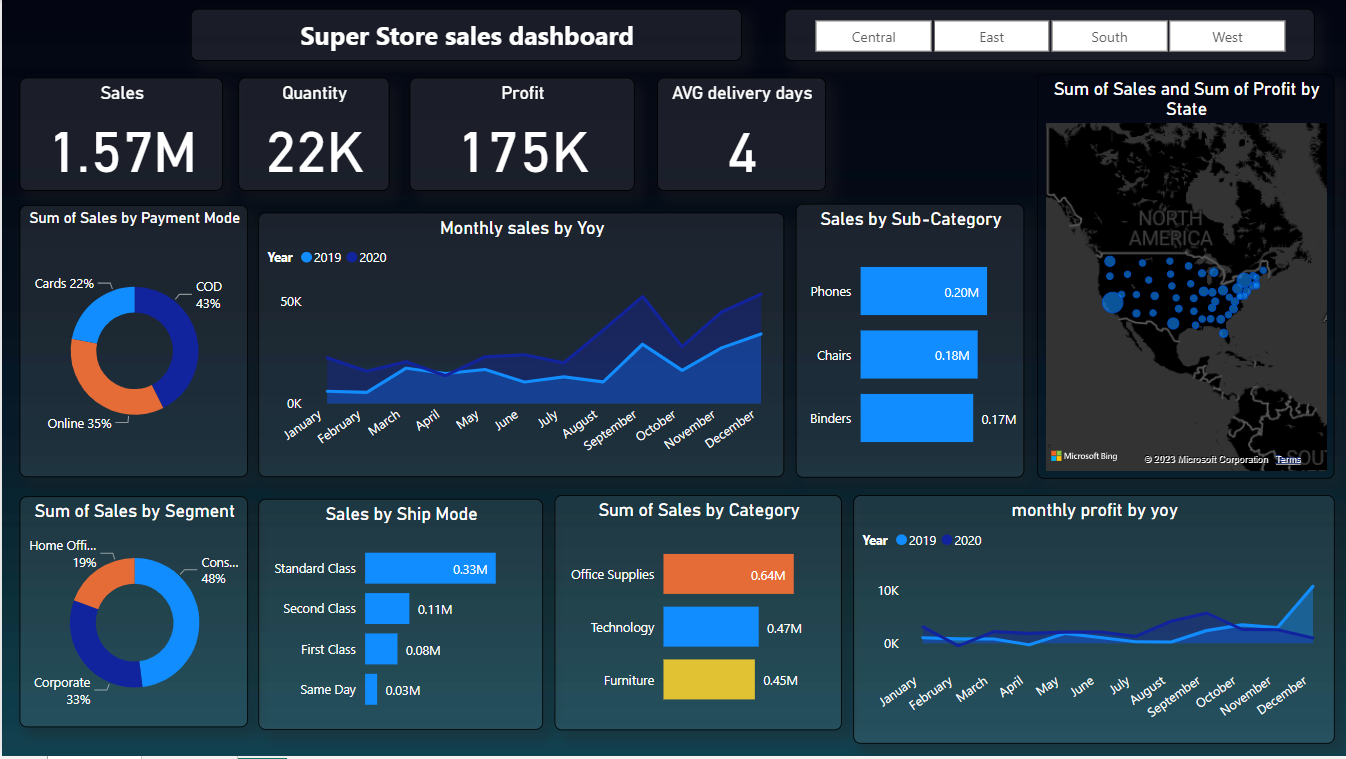

The dashboard page shown, as its layout file describes it:
{"tool":"powerbi","page":{"name":"Page 1","canvas":[1280,720],"ordinal":0},"visuals":[{"type":"clusteredBarChart","fields":{"Category":["SuperStore_Sales_Dataset.Category"],"Y":["Sum(SuperStore_Sales_Dataset.Sales)"]},"box":[526,471.3,273.7,223.7],"z":0},{"type":"clusteredBarChart","title":"Sales by Sub-Category","fields":{"Y":["Sum(SuperStore_Sales_Dataset.Sales)"],"Category":["SuperStore_Sales_Dataset.Sub-Category"]},"box":[755.7,194,217.8,260.6],"z":1000},{"type":"clusteredBarChart","title":"Sales by Ship Mode","fields":{"Category":["SuperStore_Sales_Dataset.Ship Mode"],"Y":["Sum(SuperStore_Sales_Dataset.Sales)"]},"box":[244,474.8,271.3,220.2],"z":2000},{"type":"areaChart","title":"Monthly sales by Yoy","fields":{"Category":["SuperStore_Sales_Dataset.Order Date.Variation.Date Hierarchy.Month","SuperStore_Sales_Dataset.Order Date.Variation.Date Hierarchy.Day"],"Y":["Sum(SuperStore_Sales_Dataset.Sales)"],"Series":["SuperStore_Sales_Dataset.Order Date.Variation.Date Hierarchy.Year"]},"box":[244,202.3,501,252.3],"z":3000},{"type":"areaChart","title":"monthly profit by yoy","fields":{"Category":["SuperStore_Sales_Dataset.Order Date.Variation.Date Hierarchy.Month","SuperStore_Sales_Dataset.Order Date.Variation.Date Hierarchy.Day"],"Series":["SuperStore_Sales_Dataset.Order Date.Variation.Date Hierarchy.Year"],"Y":["Sum(SuperStore_Sales_Dataset.Profit)"]},"box":[810.4,471.3,458.2,236.8],"z":4000},{"type":"map","fields":{"Category":["SuperStore_Sales_Dataset.State"],"Size":["Sum(SuperStore_Sales_Dataset.Sales)"]},"box":[985.4,70.2,283.2,385.6],"z":5000},{"type":"donutChart","fields":{"Category":["SuperStore_Sales_Dataset.Segment"],"Y":["Sum(SuperStore_Sales_Dataset.Sales)"]},"box":[16.7,472.5,217.8,220.2],"z":6000},{"type":"donutChart","fields":{"Category":["SuperStore_Sales_Dataset.Payment Mode"],"Y":["Sum(SuperStore_Sales_Dataset.Sales)"]},"box":[16.7,195.2,217.8,259.4],"z":7000},{"type":"slicer","fields":{"Values":["SuperStore_Sales_Dataset.Region"]},"box":[745,8.3,504.6,50],"z":8000},{"type":"textbox","box":[179.7,8.3,524.8,50],"z":9000},{"type":"card","title":"Sales","fields":{"Values":["Sum(SuperStore_Sales_Dataset.Sales)"]},"box":[16.7,73.8,194,108.3],"z":10000},{"type":"card","title":"Quantity","fields":{"Values":["Sum(SuperStore_Sales_Dataset.Quantity)"]},"box":[224.9,73.8,144,108.3],"z":11000},{"type":"card","title":"Profit","fields":{"Values":["Sum(SuperStore_Sales_Dataset.Profit)"]},"box":[388,73.8,214.2,108.3],"z":12000},{"type":"card","title":"AVG delivery days","fields":{"Values":["Avg(SuperStore_Sales_Dataset.AvgDelivery)"]},"box":[623.6,73.8,160.7,108.3],"z":13000}]}

Visuals, with their boxes in screenshot pixels (x1, y1, x2, y2), scaled from the page's 1280x720 canvas onto the 1346x759 screenshot:
clusteredBarChart - SuperStore_Sales_Dataset.Category x Sum(SuperStore_Sales_Dataset.Sales): x1=553 y1=497 x2=841 y2=733
"Sales by Sub-Category" clusteredBarChart: x1=795 y1=205 x2=1024 y2=479
"Sales by Ship Mode" clusteredBarChart: x1=257 y1=501 x2=542 y2=733
"Monthly sales by Yoy" areaChart: x1=257 y1=213 x2=783 y2=479
"monthly profit by yoy" areaChart: x1=852 y1=497 x2=1334 y2=746
map - SuperStore_Sales_Dataset.State x Sum(SuperStore_Sales_Dataset.Sales): x1=1036 y1=74 x2=1334 y2=480
donutChart - SuperStore_Sales_Dataset.Segment x Sum(SuperStore_Sales_Dataset.Sales): x1=18 y1=498 x2=247 y2=730
donutChart - SuperStore_Sales_Dataset.Payment Mode x Sum(SuperStore_Sales_Dataset.Sales): x1=18 y1=206 x2=247 y2=479
slicer - SuperStore_Sales_Dataset.Region: x1=783 y1=9 x2=1314 y2=61
textbox: x1=189 y1=9 x2=741 y2=61
"Sales" card: x1=18 y1=78 x2=222 y2=192
"Quantity" card: x1=236 y1=78 x2=388 y2=192
"Profit" card: x1=408 y1=78 x2=633 y2=192
"AVG delivery days" card: x1=656 y1=78 x2=825 y2=192
